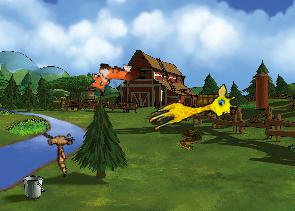eagle: (31, 119, 89, 177)
fox: (86, 59, 141, 100)
giraffe: (145, 81, 240, 142)
